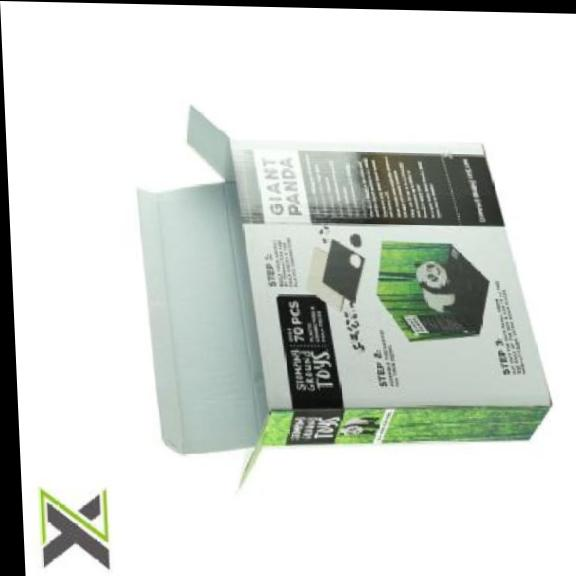Kertas: (130, 107, 550, 485), (145, 314, 152, 354), (146, 382, 155, 403), (178, 112, 184, 122), (179, 104, 184, 110), (169, 148, 178, 151)
